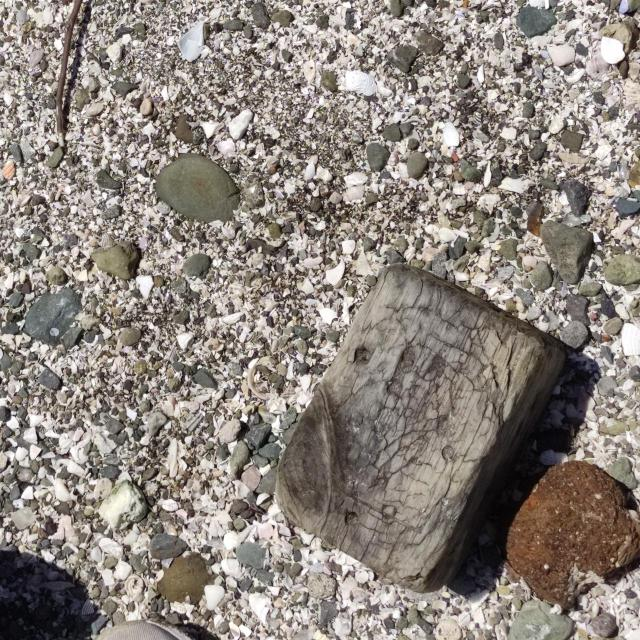wood_waste: (275, 262, 570, 595)
